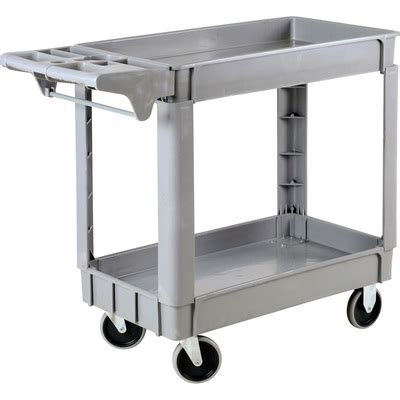Carts: (1, 14, 400, 385)
